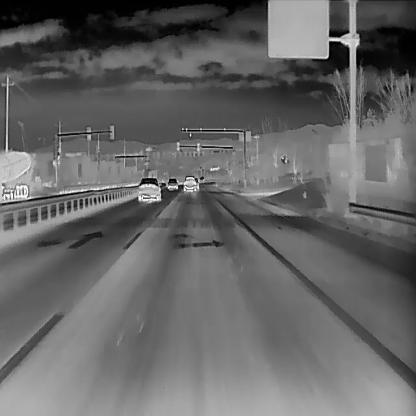car: (0, 149, 35, 200), (137, 177, 161, 202), (182, 176, 196, 190), (166, 177, 178, 190)
